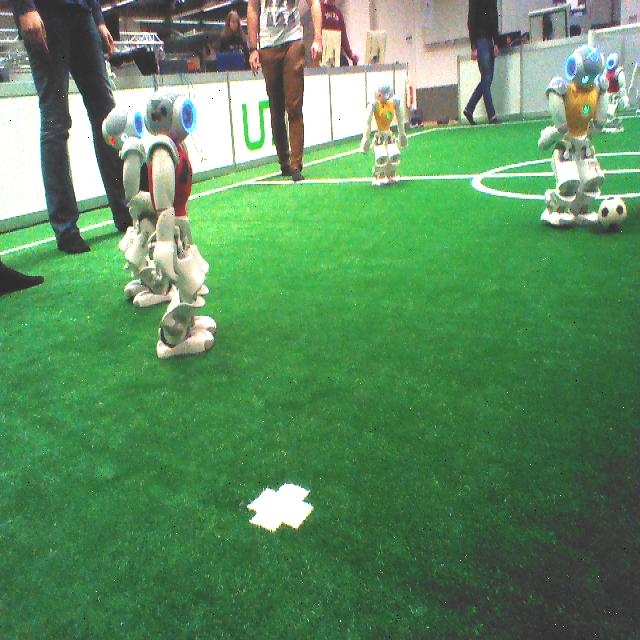ball: (596, 188, 628, 241)
goalpost: (587, 26, 598, 50)
